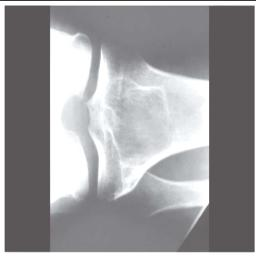cancer: (109, 77, 171, 162)
